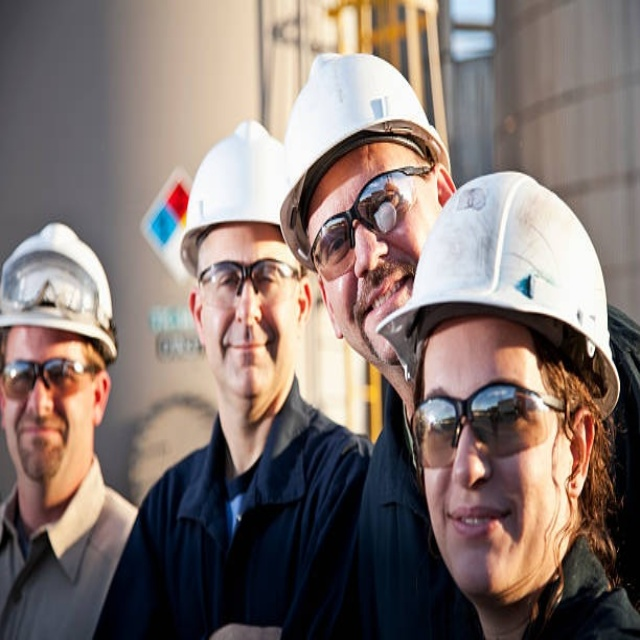Gafas: (407, 381, 573, 475), (307, 162, 434, 279), (189, 256, 302, 301), (1, 353, 96, 397)
Sin_mascara: (440, 486, 510, 573), (356, 270, 407, 348), (219, 333, 276, 378), (16, 416, 65, 461)
